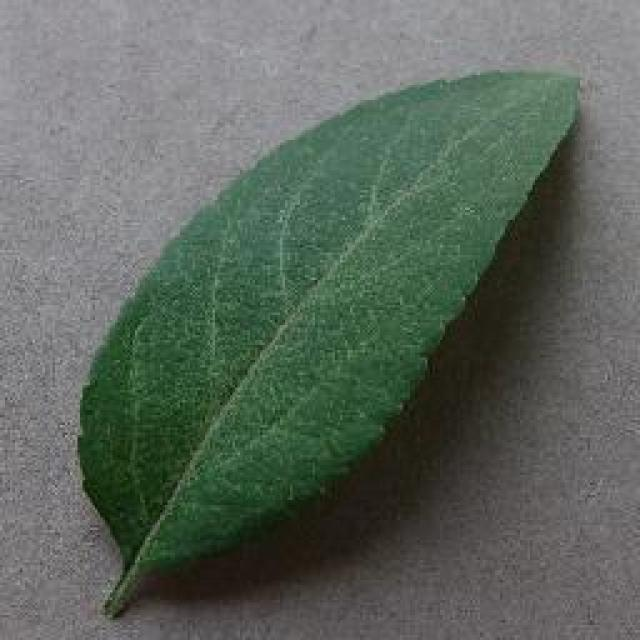apple healthy: (72, 62, 582, 618)
